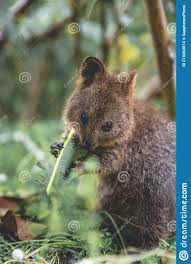quokka: (44, 54, 174, 258)
